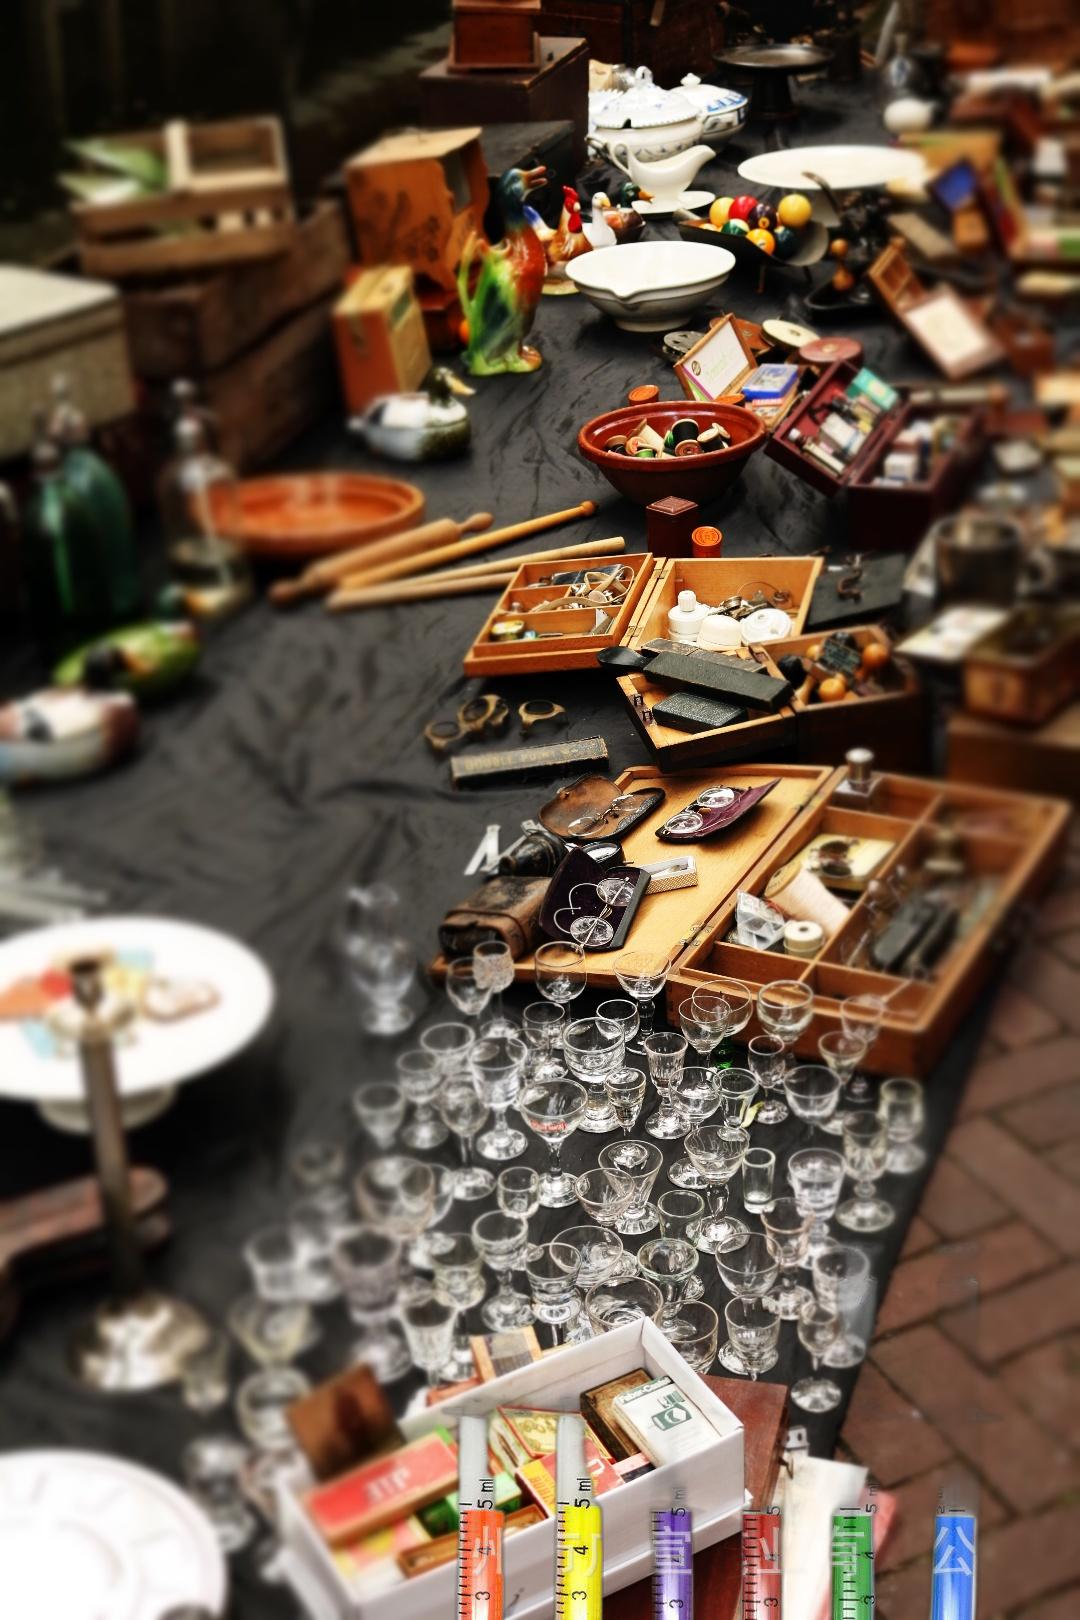penholder: (436, 1168, 1016, 1620)
